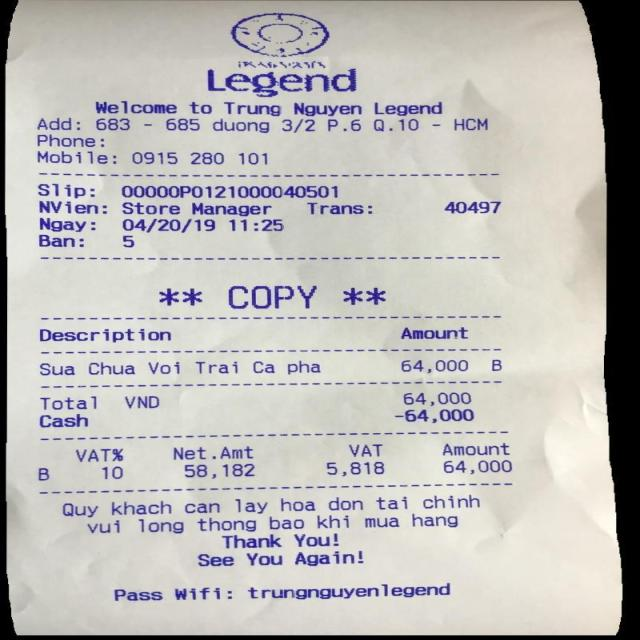Date: (114, 217, 220, 234)
Store_Name: (170, 9, 399, 99)
amount_number: (391, 388, 483, 407)
label_total: (33, 394, 169, 412)
